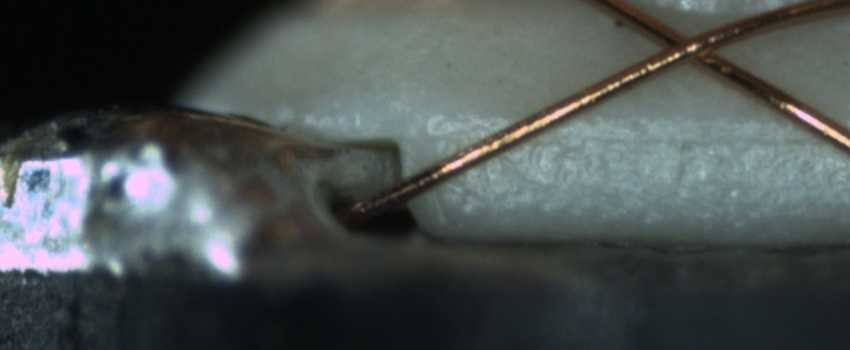CL: (641, 18, 738, 75)
DL: (436, 108, 833, 165)
